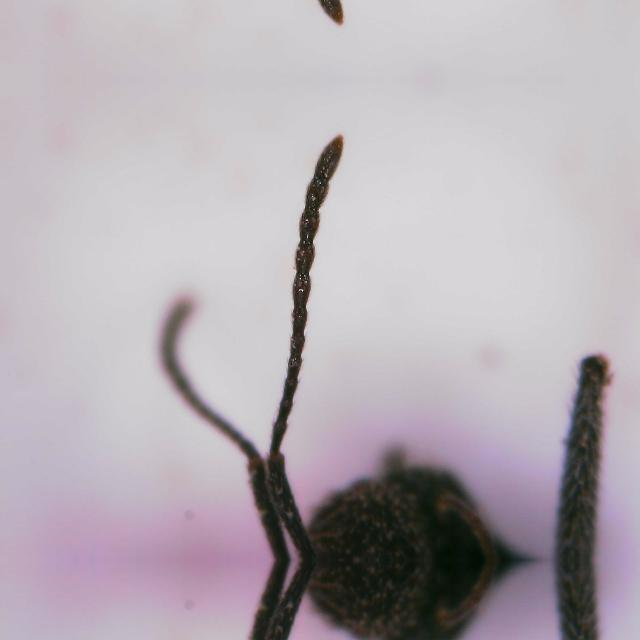Apheanogaster: (132, 110, 640, 560)
